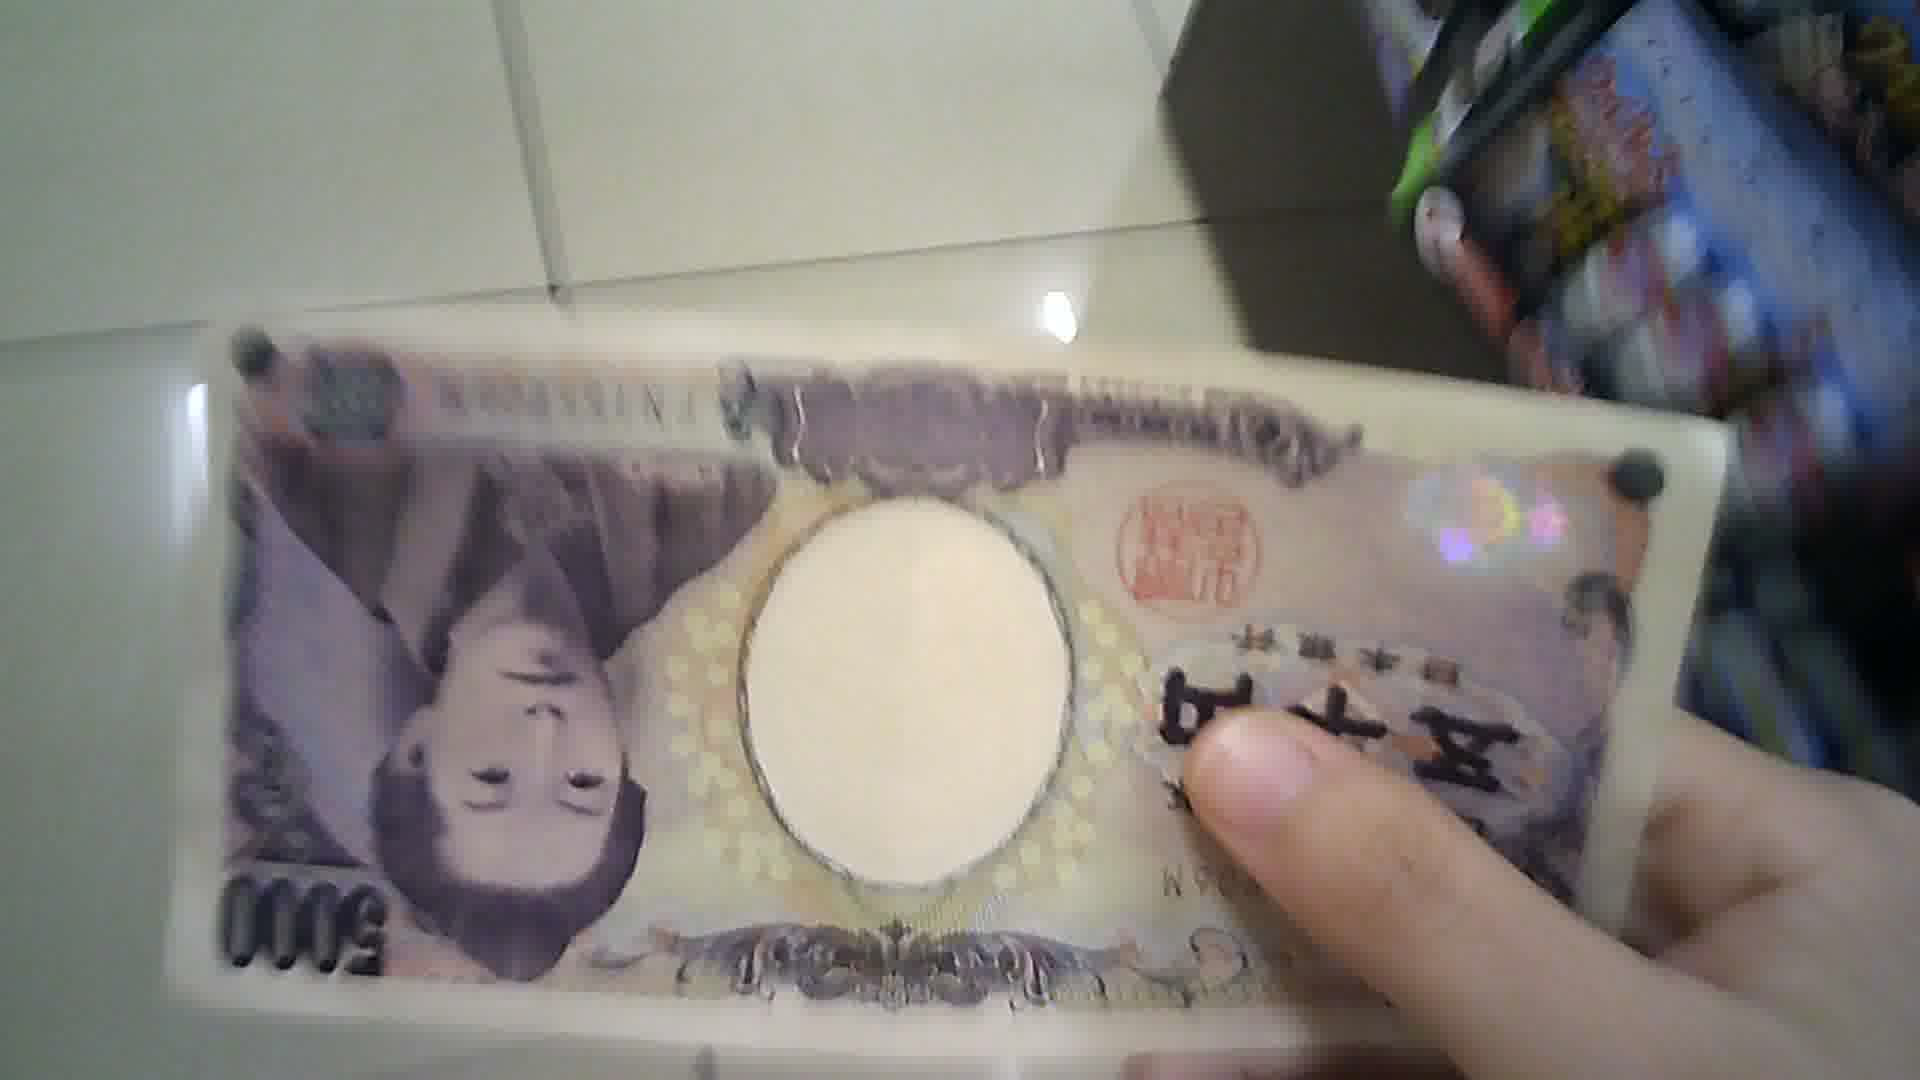5,000 Yen: (135, 318, 1800, 1046)
